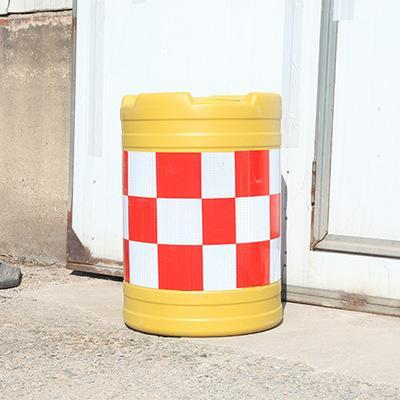sign: (107, 87, 289, 338)
